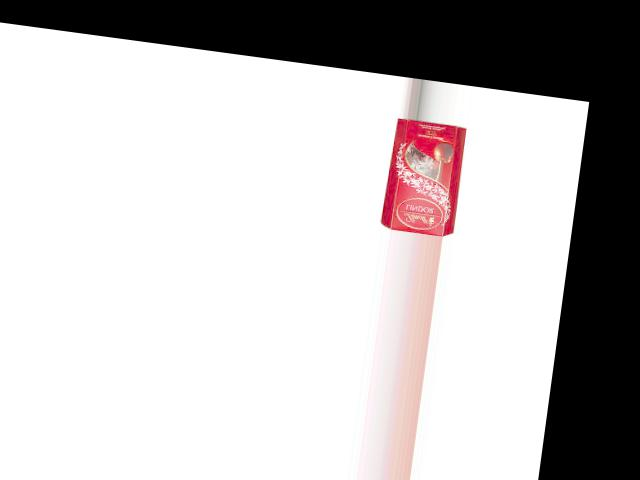chocolate: (378, 116, 473, 238)
